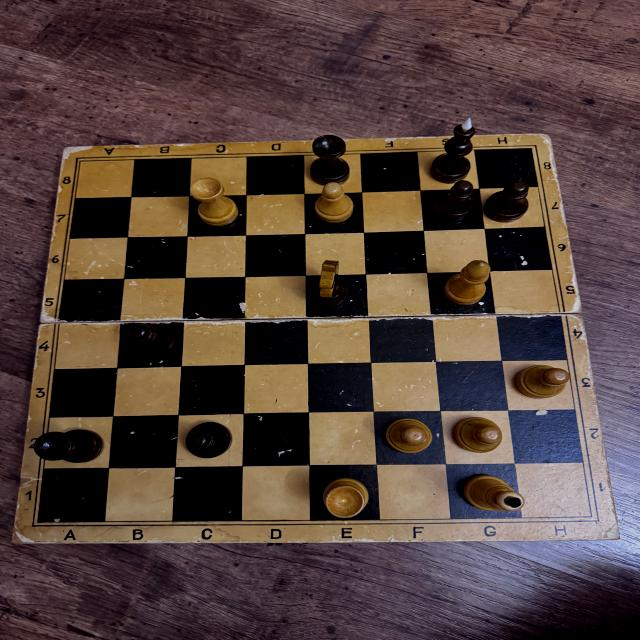black-king: (430, 116, 476, 182)
black-knight: (304, 259, 351, 310)
black-pawn: (432, 178, 480, 225), (126, 322, 180, 360), (485, 180, 531, 222), (185, 421, 232, 458)
black-rook: (33, 426, 106, 465), (308, 135, 354, 186)
white-bishop: (442, 259, 492, 307)
white-king: (460, 474, 526, 514)
white-pawn: (452, 415, 503, 454), (514, 364, 570, 398), (383, 418, 433, 454), (314, 182, 355, 225)
white-rook: (190, 177, 242, 229), (322, 478, 370, 520)
